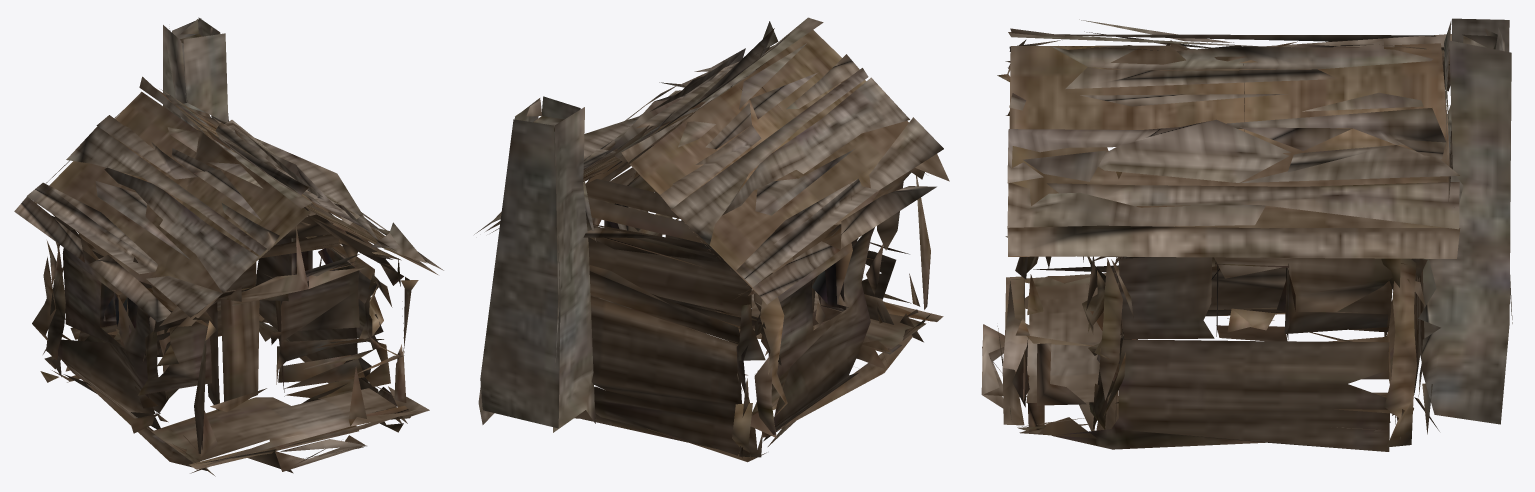
Rendered from wald_huette_lo.glb.
3 views of the same model, side by side, from view 1: azimuth 30°, elevation 25°; view 2: azimuth 150°, elevation 25°; view 3: azimuth 270°, elevation 25° (orthographic). The views are drawn at different scales.
Visible parts, largest first — view 1: Prop; view 2: Prop; view 3: Prop.
Boxes of the visible parts, x1,y1,x2,y2 form: Prop: (14, 17, 443, 476); Prop: (474, 17, 949, 462); Prop: (981, 18, 1512, 451).
Bounding box in the file's own units: 0.9569 × 1.05 × 1.24.
Materials: 1 (1 with a texture image).
